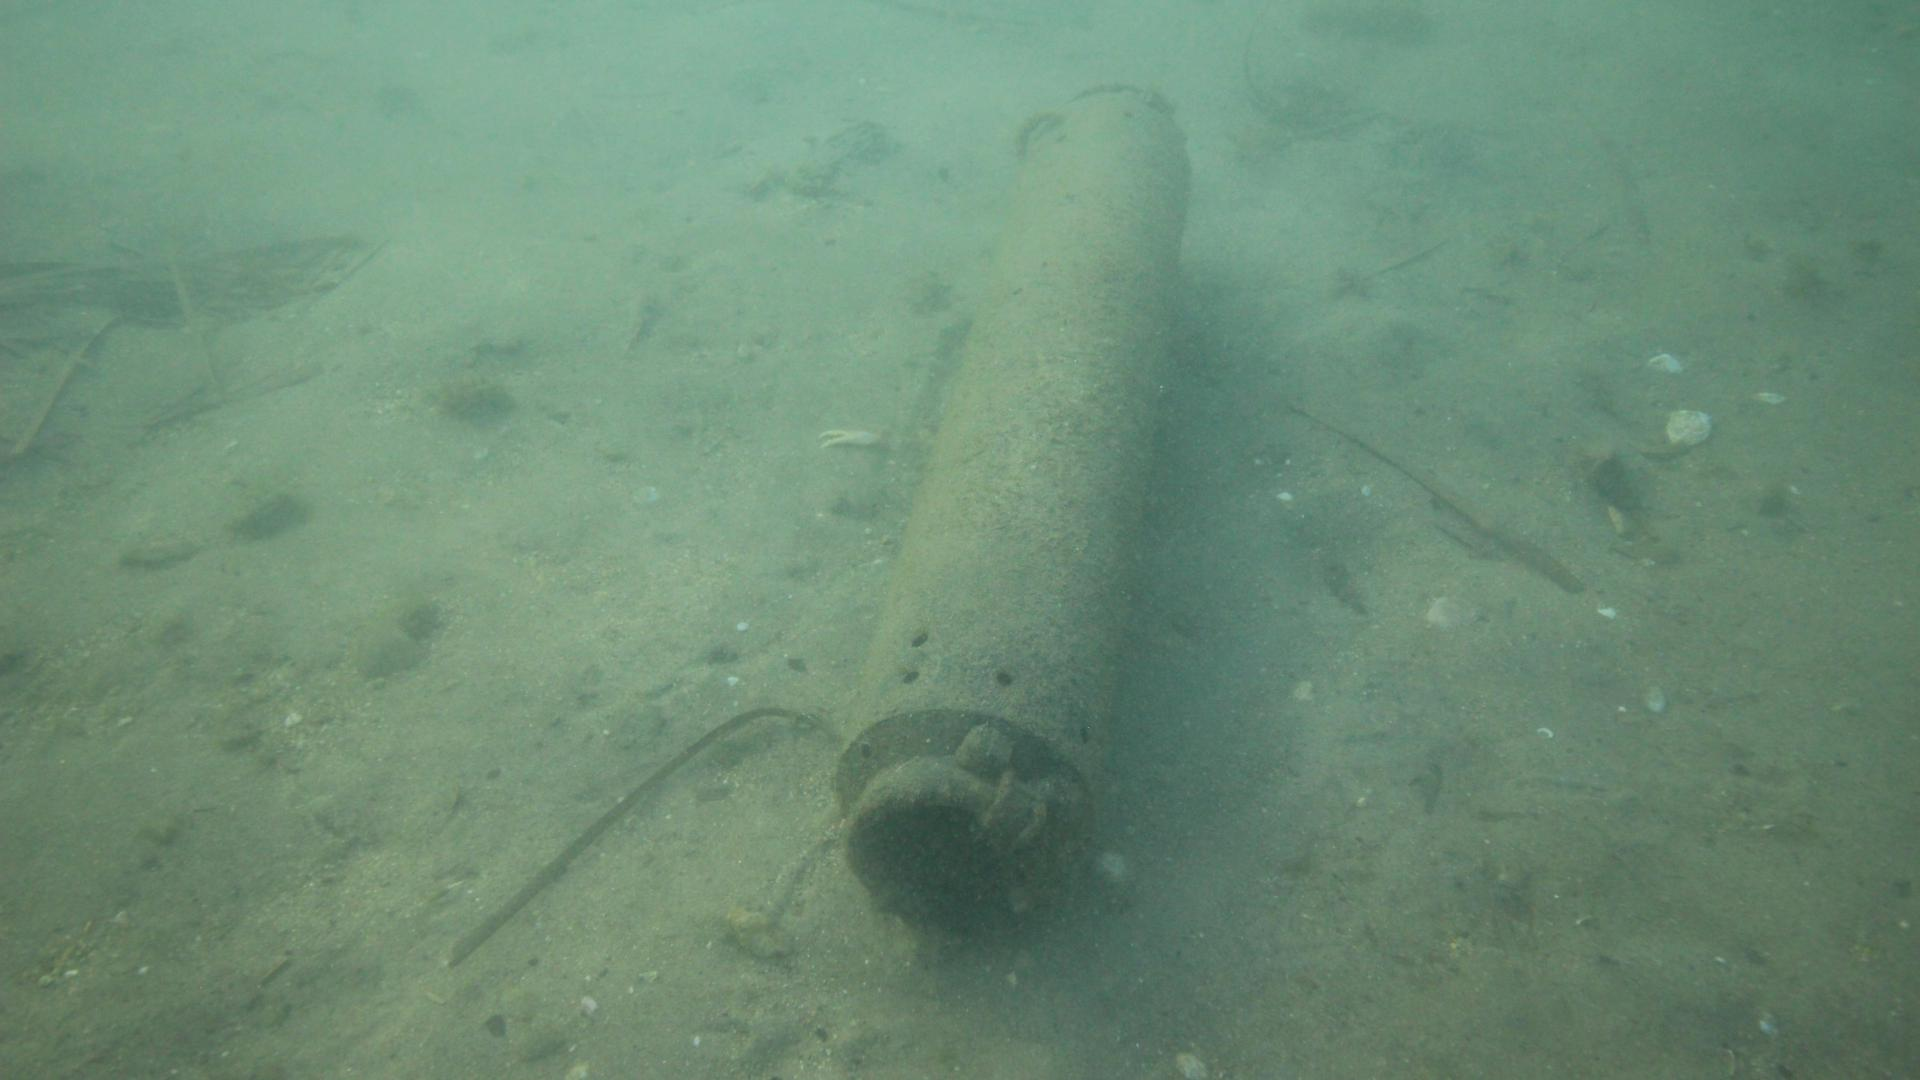eel fish trap: (831, 82, 1195, 938)
